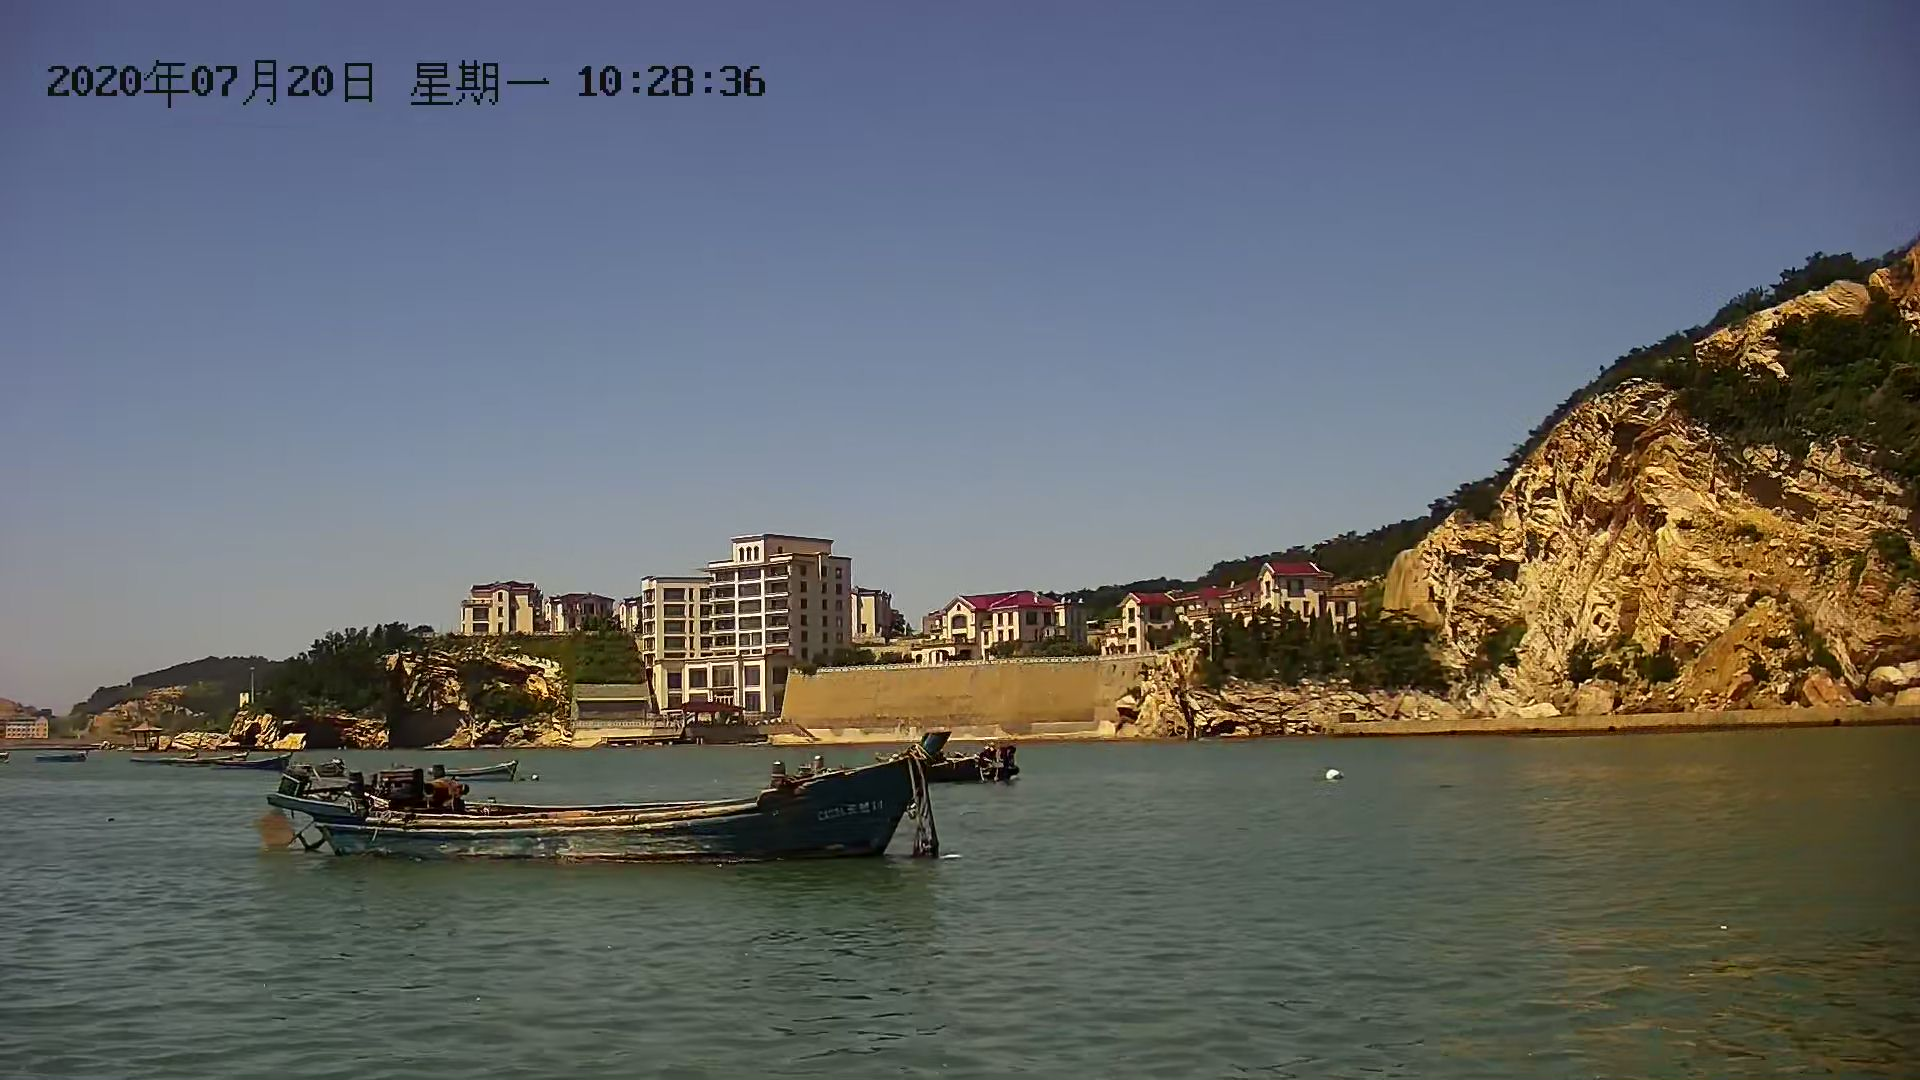boat: (268, 767, 942, 872), (204, 756, 299, 771), (36, 752, 91, 769)
rubbish: (1321, 767, 1349, 787)
